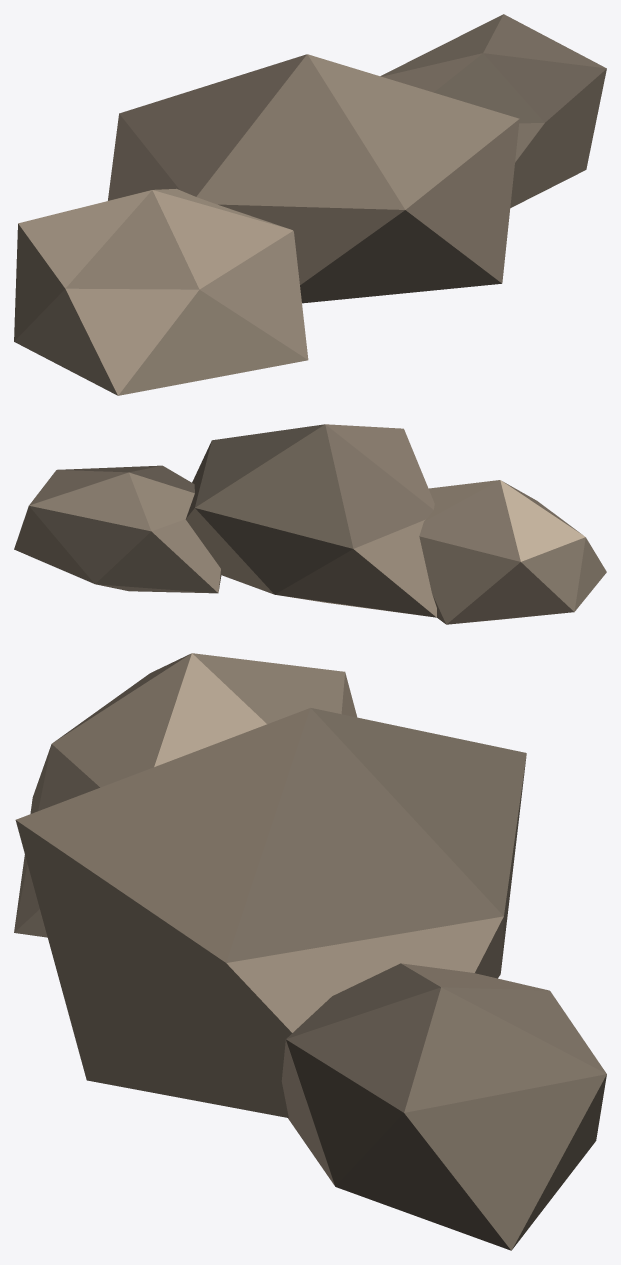
File: rock.glb
The picture shows the model from 3 angles, top to bottom: view 1: azimuth 30°, elevation 25°; view 2: azimuth 150°, elevation 25°; view 3: azimuth 270°, elevation 25°; orthographic projection. The views are drawn at different scales.
Visible parts, largest first — view 1: rock_lod1; view 2: rock_lod1; view 3: rock_lod1.
Boxes of the visible parts, bbox=[...] form: rock_lod1: bbox=[14, 14, 606, 395]; rock_lod1: bbox=[14, 424, 606, 624]; rock_lod1: bbox=[14, 653, 606, 1250].
Size of the model in its own units: 1.87 by 0.6627 by 0.9994.
